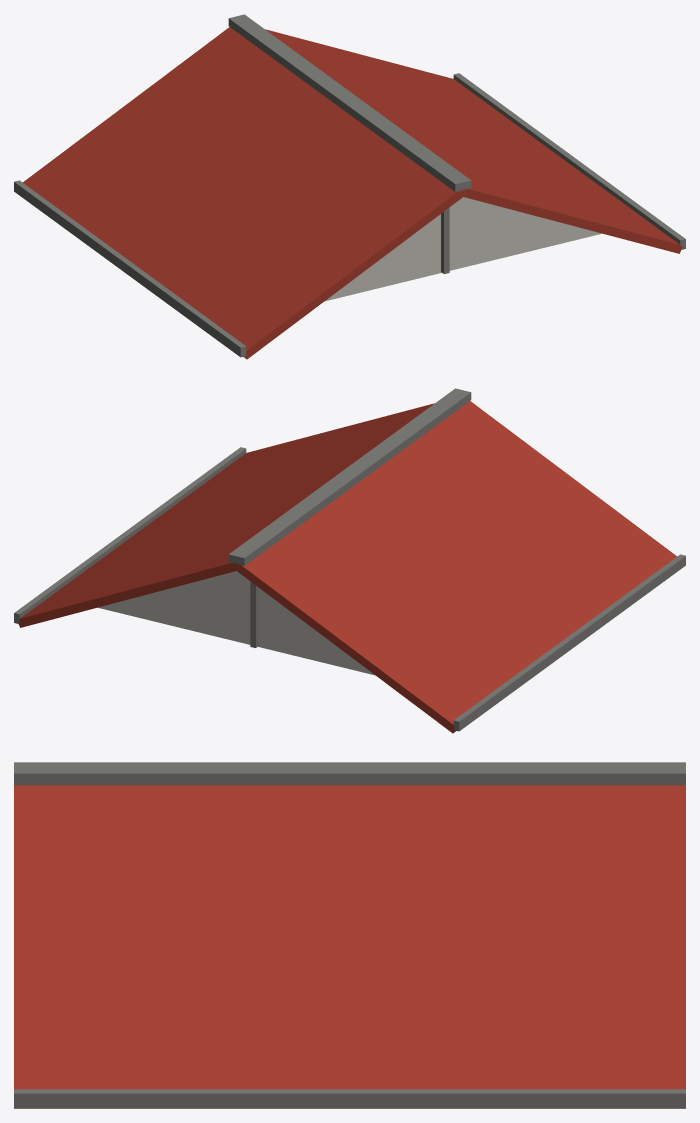
Rendered from roof_bank2.glb.
The picture shows the model from 3 angles, top to bottom: view 1: azimuth 30°, elevation 25°; view 2: azimuth 150°, elevation 25°; view 3: azimuth 270°, elevation 25°; orthographic projection. The views are drawn at different scales.
Parts seen in each view (by area): view 1: roof_bank2; view 2: roof_bank2; view 3: roof_bank2.
Part boxes in pixels (<box>): roof_bank2: <box>14,14,685,359</box>; roof_bank2: <box>14,388,685,733</box>; roof_bank2: <box>14,762,685,1108</box>.
Size of the model in its own units: 9.52 by 2.54 by 8.4.
